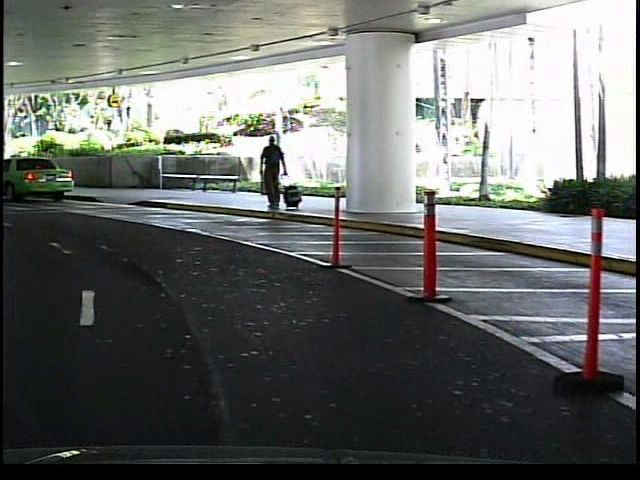person: (258, 131, 293, 215)
